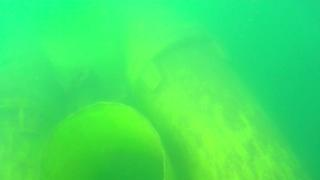pipe: (121, 23, 308, 180), (37, 99, 176, 180), (1, 50, 63, 180)
